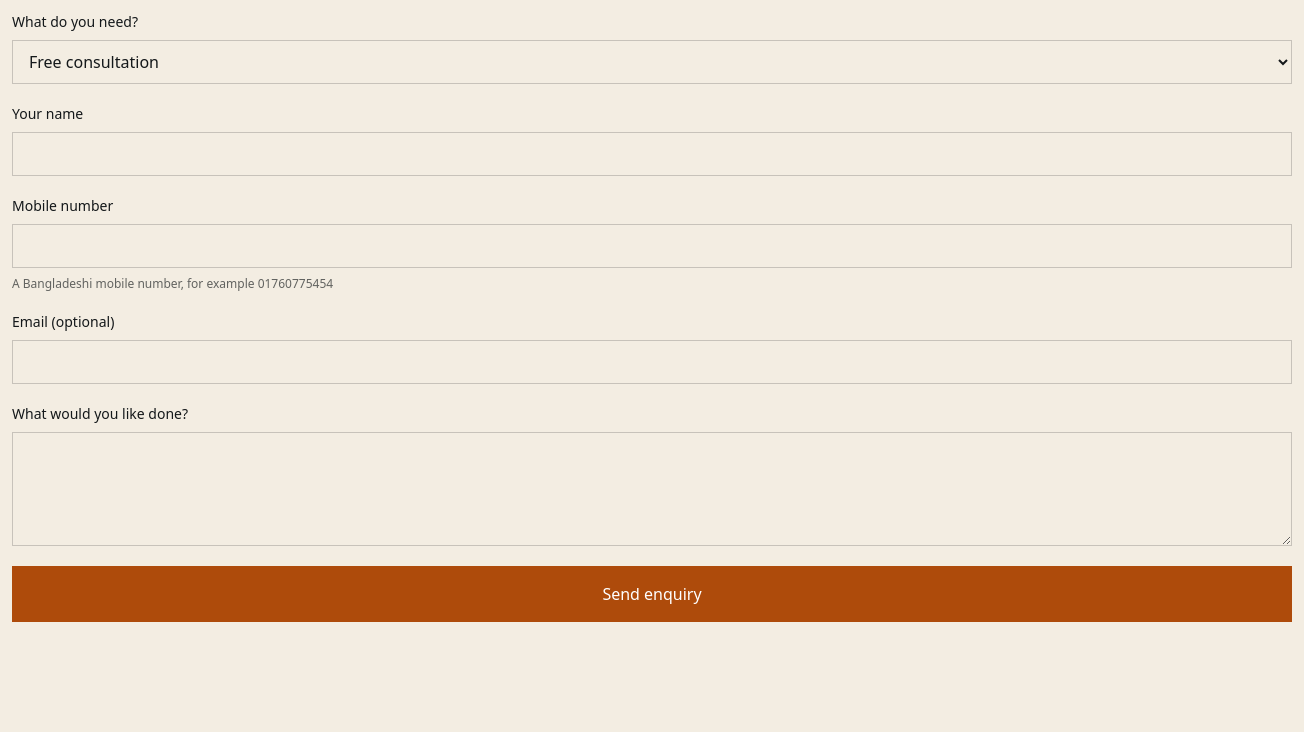
LeadForm › explains a throttled submission instead of blaming the visitor
This screenshot has width=1304, height=732.
Type "Rahim" into the field labelled "Your name". click: (652,154)
box: [12,132,1292,176]
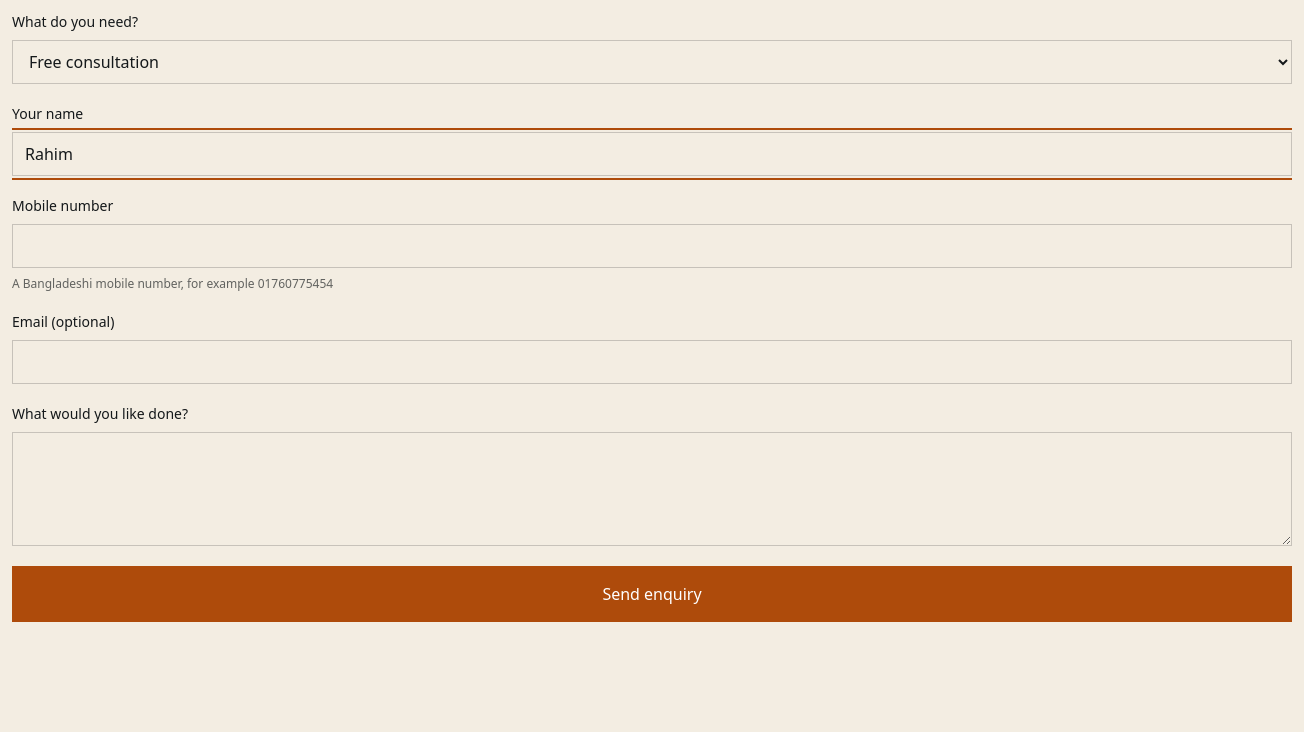
Type "01760775454" into the field labelled "Mobile number". click: (652,246)
box: [12,224,1292,268]
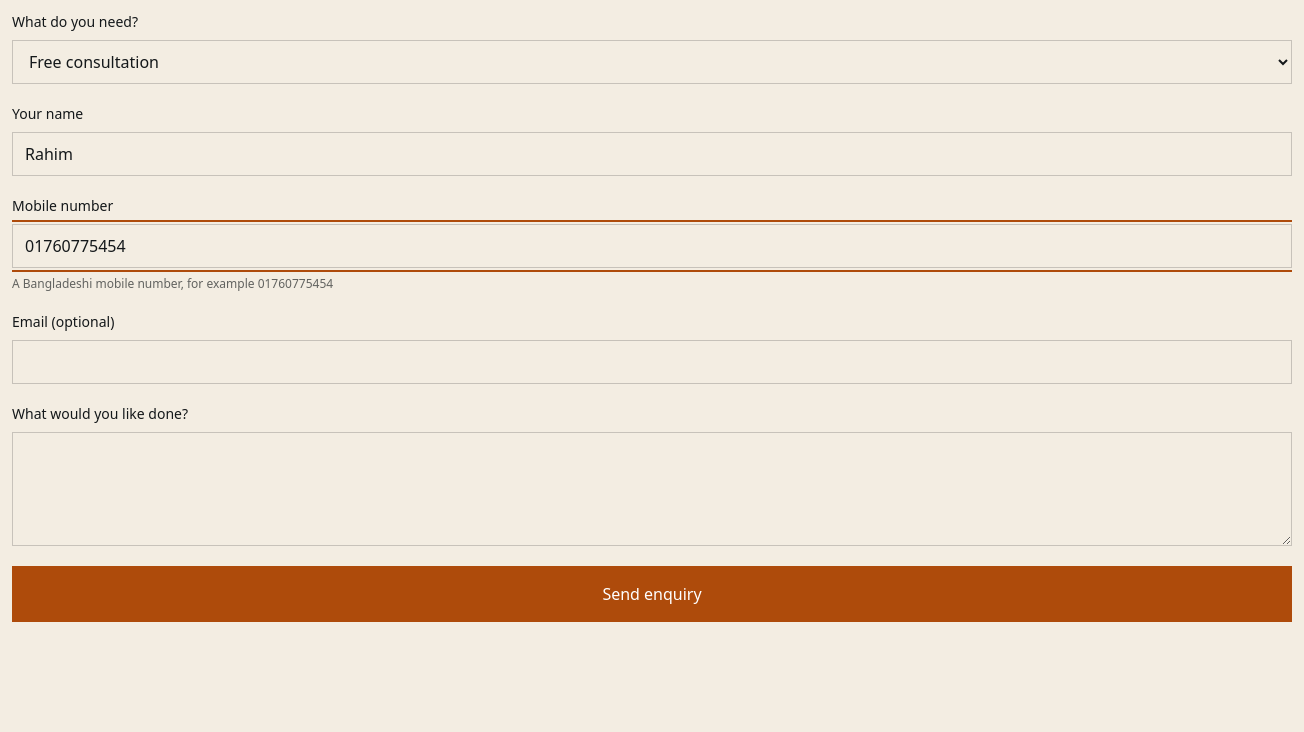
Click the button "Send enquiry". click: (652,594)
box: [12,566,1292,622]
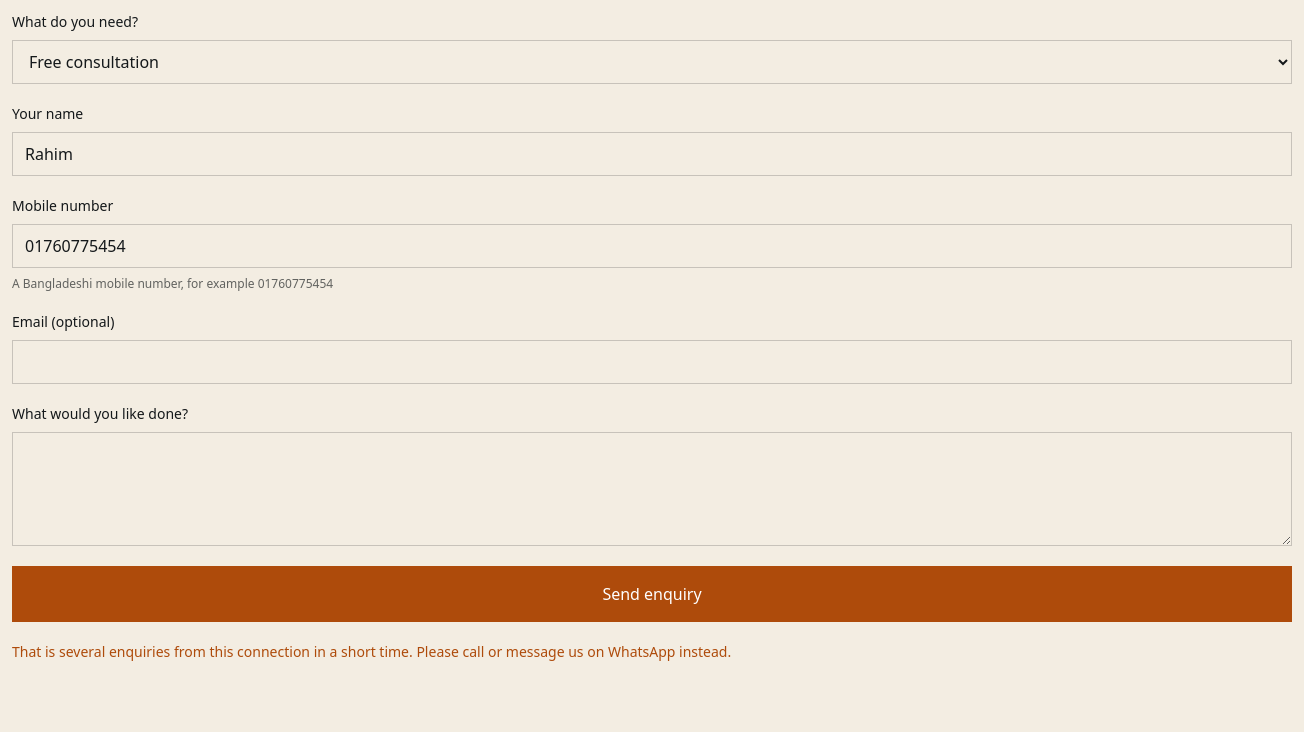
Expected: the text "several enquiries from this connection" is shown, [12,642,731,661]
